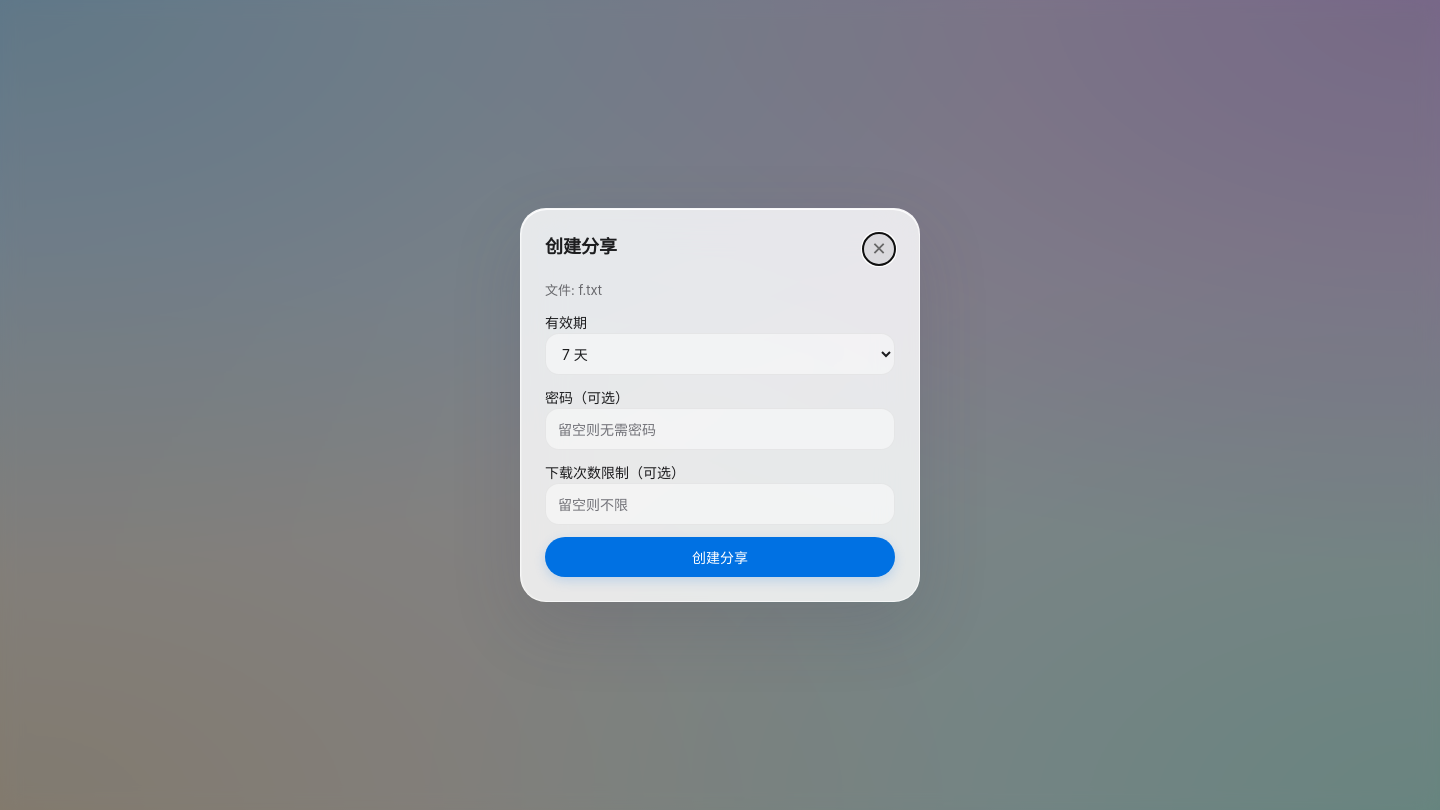
CreateShareDialog › 留空的可选项作为 null 提交，无密码时不展示密码行
This screenshot has width=1440, height=810.
Select "永久" in the dropdown labelled "有效期" at (720, 354), box [545, 333, 895, 375]
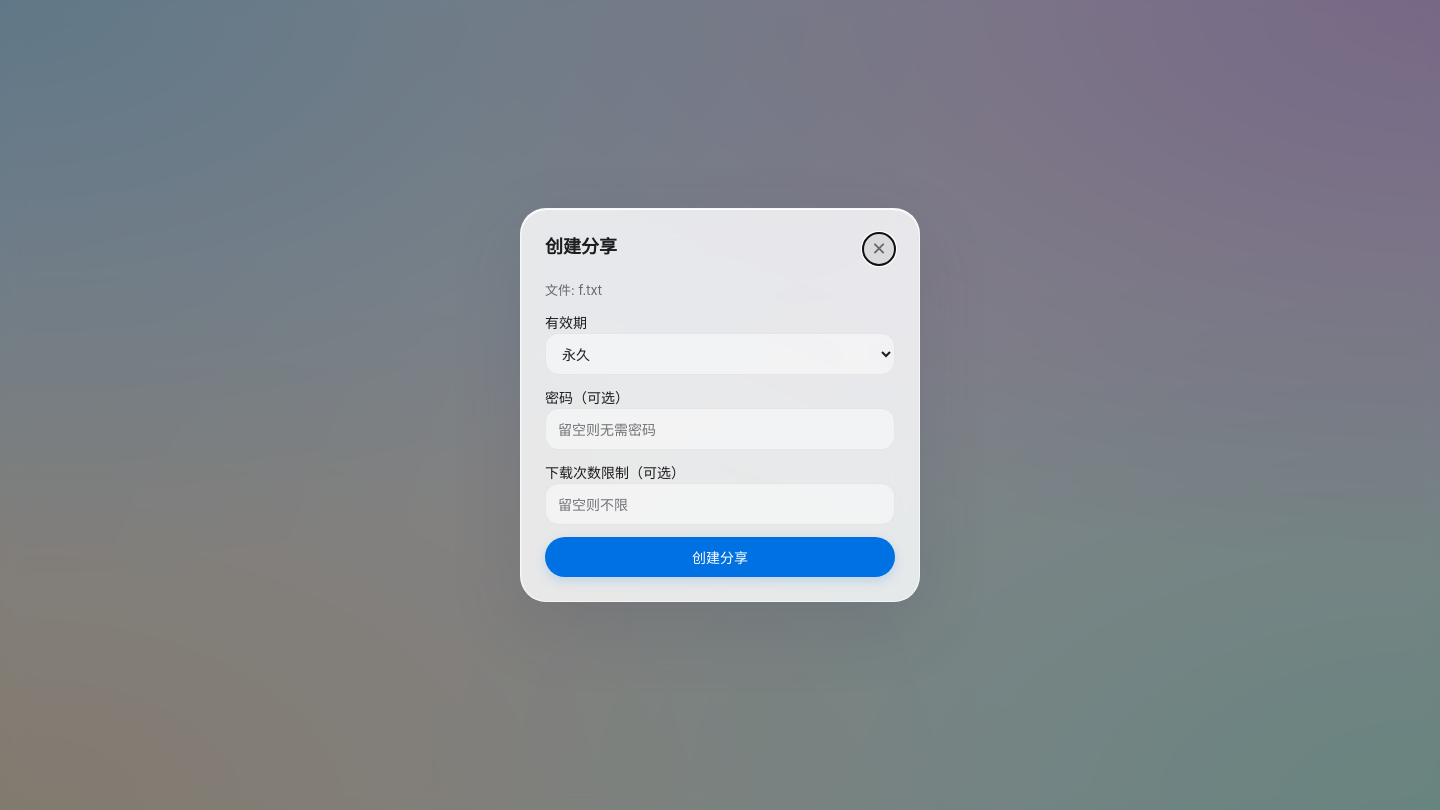
Click the button "创建分享".
click(720, 557)  # box [545, 537, 895, 577]
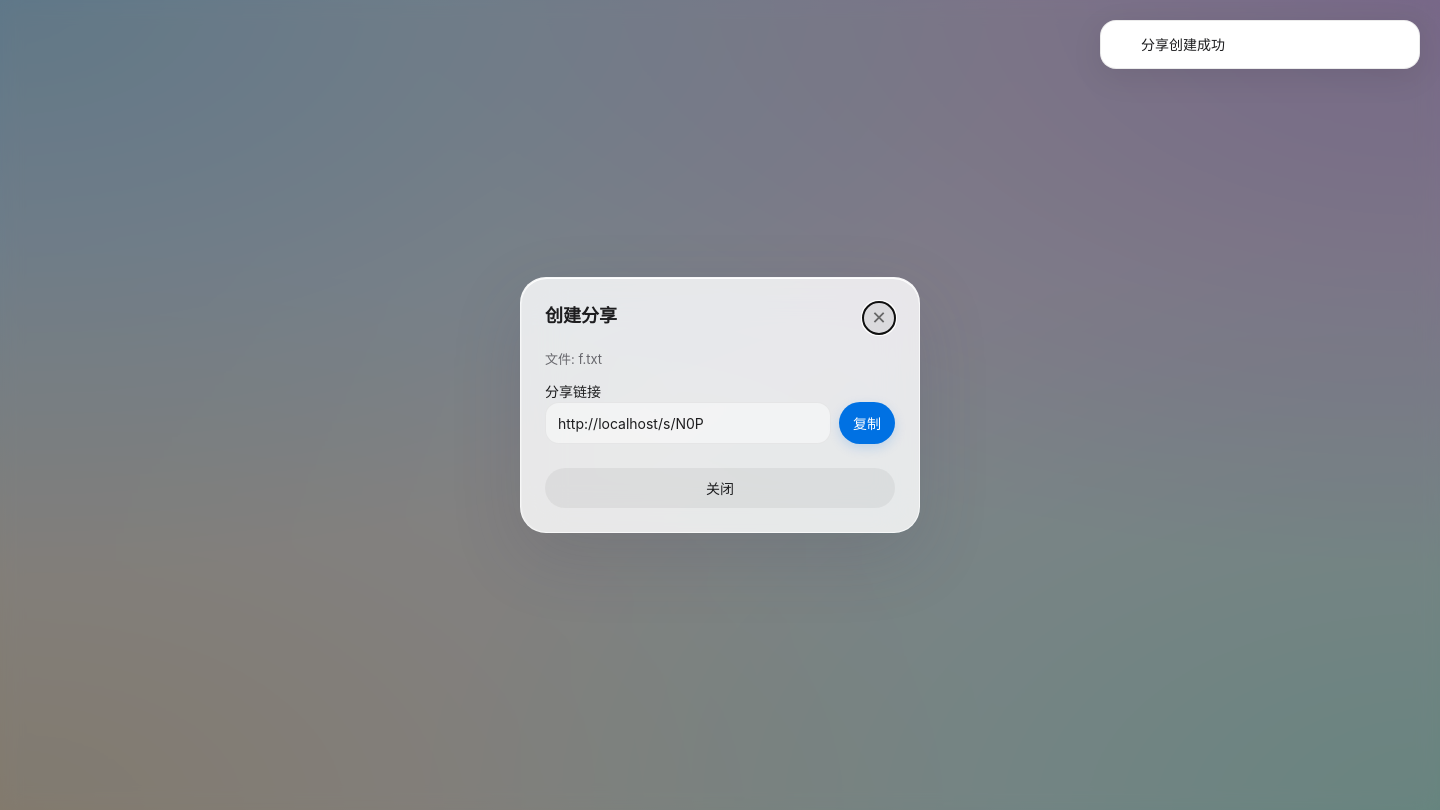
Now the field labelled "分享链接" is shown, box [545, 402, 831, 444]
